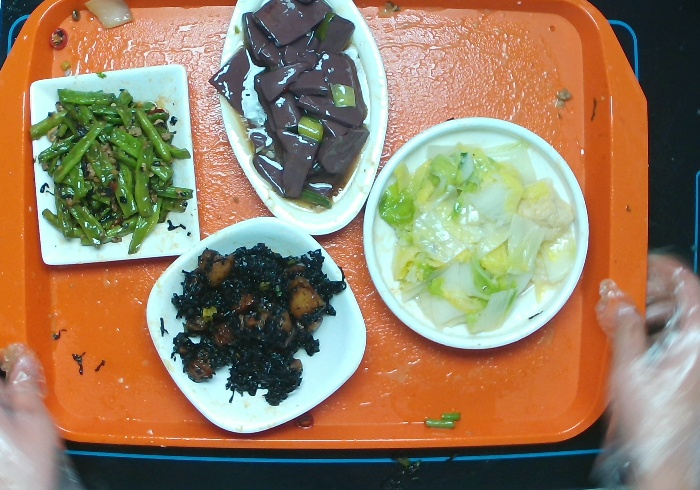HZYJPL-Si_Fang_Die: (12, 59, 212, 272)
HZYJPL-Si_Fang_Yuan_Die: (135, 212, 372, 438)
HZYJPL-Xiao_Yu_Die: (213, 1, 395, 244)
HZYJPL-Xiao_Yuan_Die: (361, 111, 596, 354)
